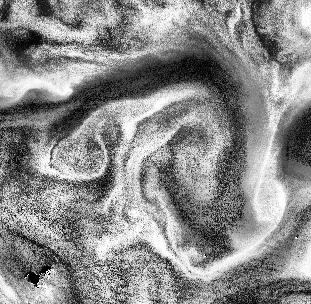AE: (117, 83, 294, 280)
